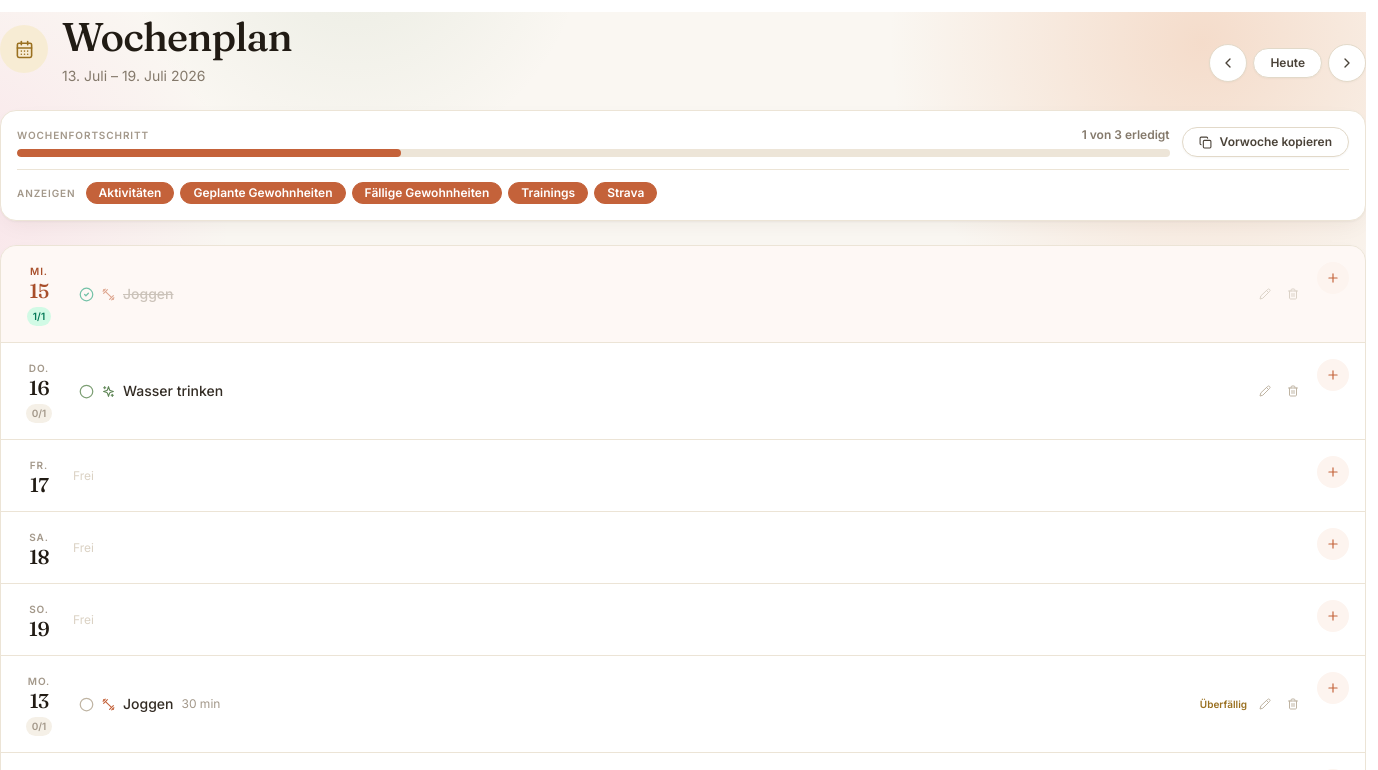
it: Planner – Vorwoche kopieren › meldet, wenn nichts übernommen wurde
The width and height of the screenshot is (1378, 770).
expect the text "Wasser trinken" is shown: met, box [123,381,223,401]
Click the button "Vorwoche kopieren": (1265, 142) [1182,127,1349,157]
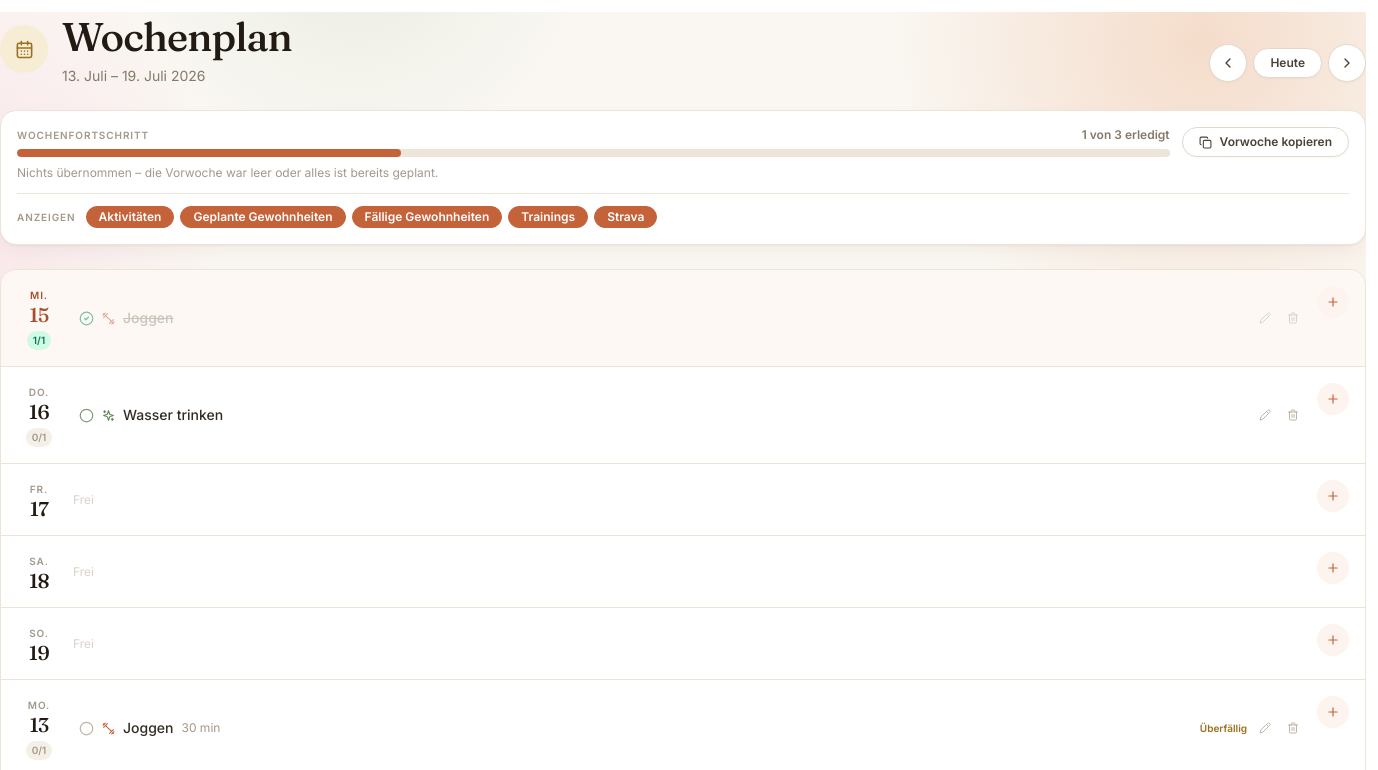
expect the text "Nichts übernommen – die Vorwoche war leer oder alles ist bereits geplant." is shown: met, box [17,165,438,180]
